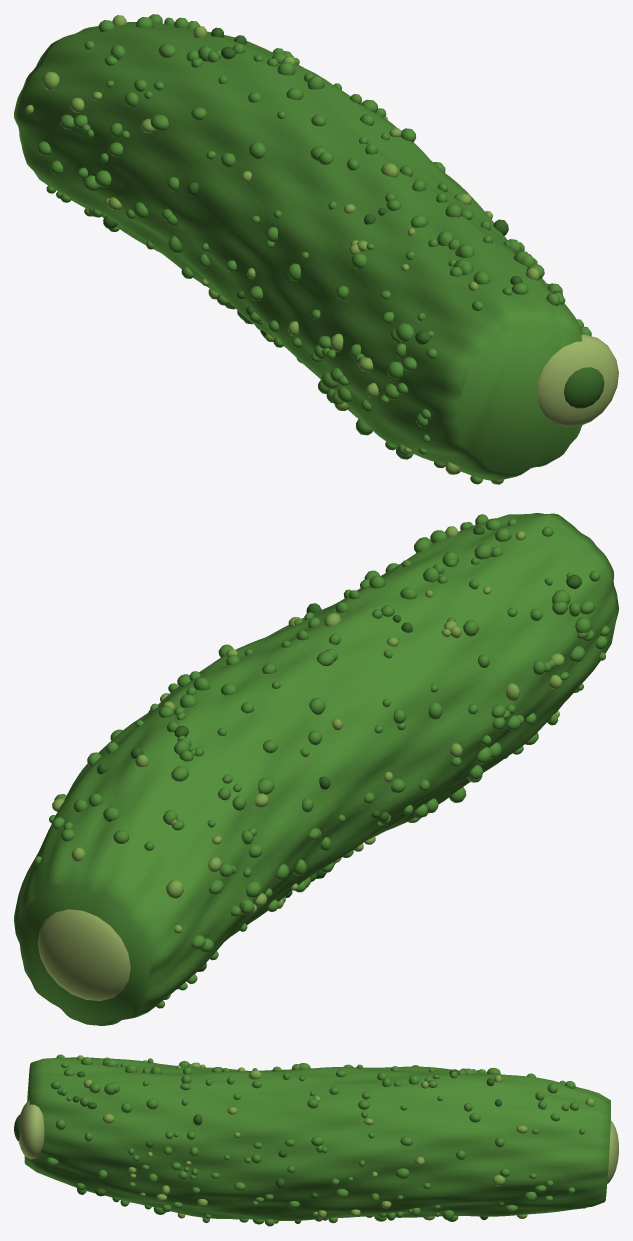
File: Pepino.glb
3 renders of one model, top to bottom at view 1: azimuth 30°, elevation 25°; view 2: azimuth 150°, elevation 25°; view 3: azimuth 270°, elevation 25°, orthographic. The views are drawn at different scales.
Parts seen in each view (by area): view 1: Pepino_MESH; view 2: Pepino_MESH; view 3: Pepino_MESH.
Part boxes in pixels (x1,y1,x2,y2): Pepino_MESH: [14, 14, 618, 484]; Pepino_MESH: [14, 513, 618, 1025]; Pepino_MESH: [14, 1054, 618, 1226].
Size of the model in its own units: 0.8303 by 0.7406 by 2.76.
